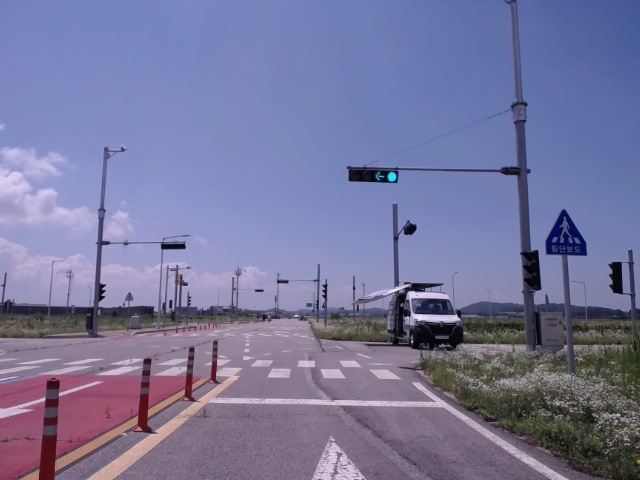all_green_4: (344, 165, 400, 182)
